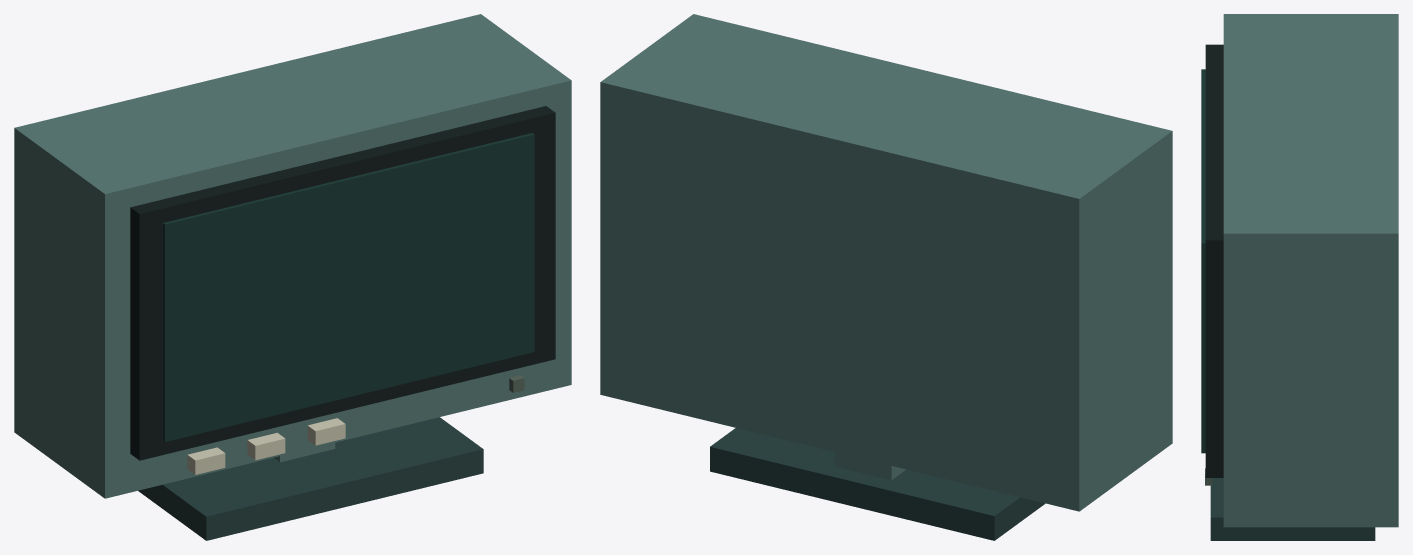
The model's file is security_monitor.glb.
The picture shows the model from 3 angles, left to right: view 1: azimuth 30°, elevation 25°; view 2: azimuth 150°, elevation 25°; view 3: azimuth 270°, elevation 25°; orthographic projection. The views are drawn at different scales.
Visible parts, largest first — view 1: security_case, security_screen, security_bezel, security_foot, security_control_0, security_control_1, security_control_2; view 2: security_case, security_foot, security_stem; view 3: security_case, security_bezel, security_foot, security_screen.
Boxes of the visible parts, bbox=[...] form: security_case: bbox=[14, 14, 571, 498]; security_screen: bbox=[163, 133, 534, 441]; security_bezel: bbox=[130, 106, 555, 460]; security_foot: bbox=[138, 417, 483, 540]; security_control_0: bbox=[187, 447, 225, 474]; security_control_1: bbox=[247, 432, 285, 460]; security_control_2: bbox=[307, 418, 345, 445]; security_case: bbox=[600, 14, 1172, 511]; security_foot: bbox=[710, 428, 1045, 540]; security_stem: bbox=[834, 452, 905, 480]; security_case: bbox=[1223, 14, 1398, 527]; security_bezel: bbox=[1205, 44, 1223, 477]; security_foot: bbox=[1210, 478, 1375, 540]; security_screen: bbox=[1201, 69, 1205, 453].
Size of the model in its own units: 1.01 by 0.755 by 0.383.
